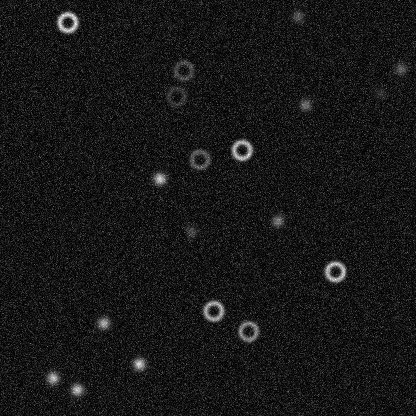Ring: (55, 10, 79, 34), (229, 137, 253, 161), (187, 147, 211, 171), (236, 319, 260, 343), (201, 298, 225, 322), (171, 58, 195, 82), (164, 84, 188, 108), (323, 259, 347, 283)
Spot: (289, 8, 305, 24), (269, 212, 285, 228), (68, 381, 84, 397), (372, 84, 388, 100), (44, 369, 60, 385), (392, 60, 408, 76), (151, 170, 167, 186), (95, 314, 111, 330), (183, 223, 199, 239), (297, 96, 313, 112), (130, 355, 146, 371)
